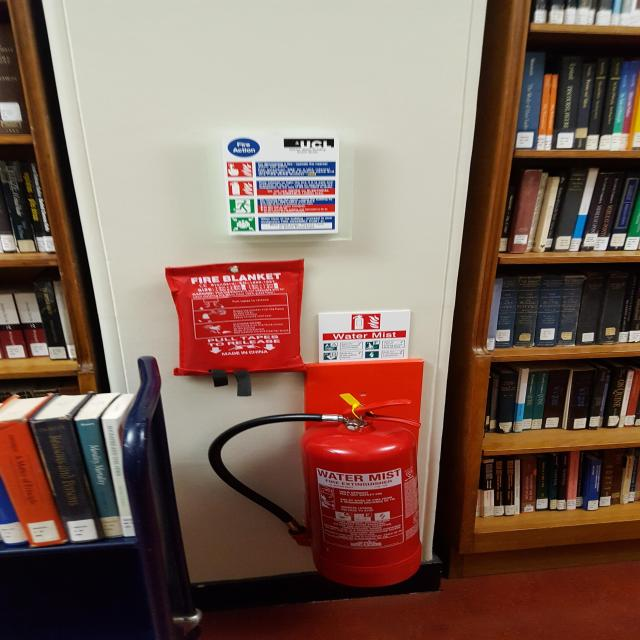fire_extinguisher: (205, 394, 432, 590)
